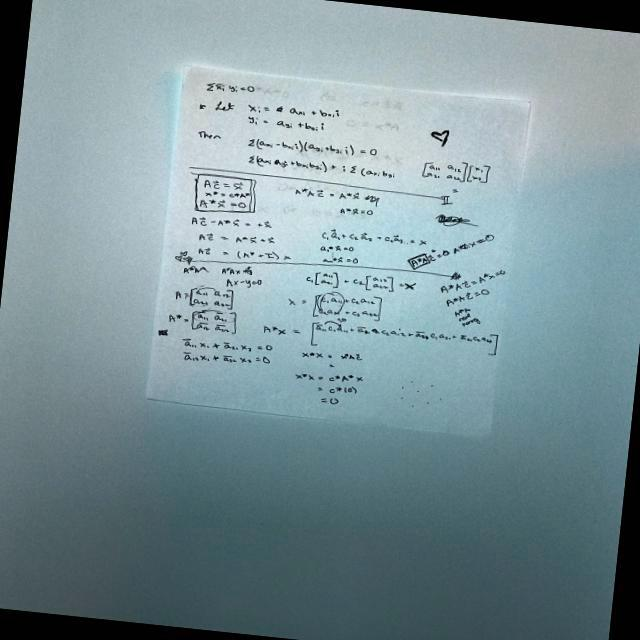paper: (134, 52, 552, 450)
